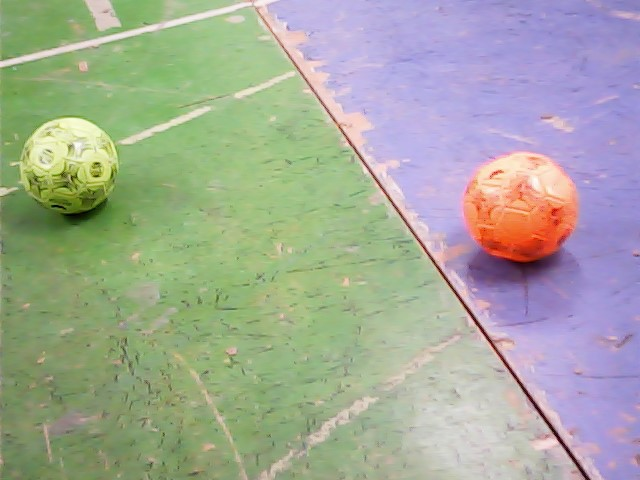Green_ball: (18, 117, 123, 222)
Orange_ball: (458, 153, 586, 282)
